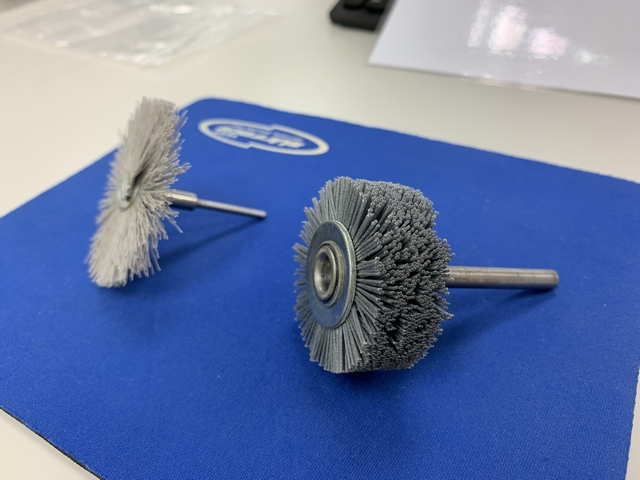TOOL: (76, 89, 273, 289)
Wheel Brush: (288, 177, 570, 377)
